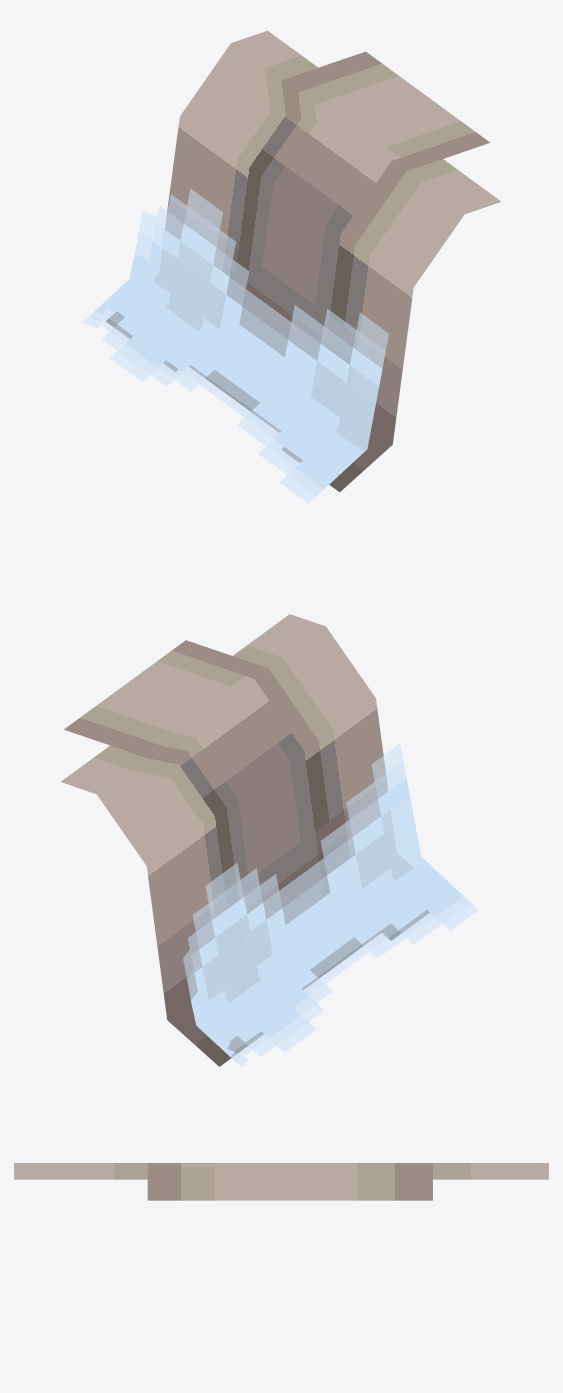
3 views of the same model, one above another, from view 1: azimuth 30°, elevation 25°; view 2: azimuth 150°, elevation 25°; view 3: azimuth 270°, elevation 25° (orthographic). The views are drawn at different scales.
Size of the model in its own units: 0.7705 by 0.7266 by 1.
Materials: 2 (2 with a texture image).
